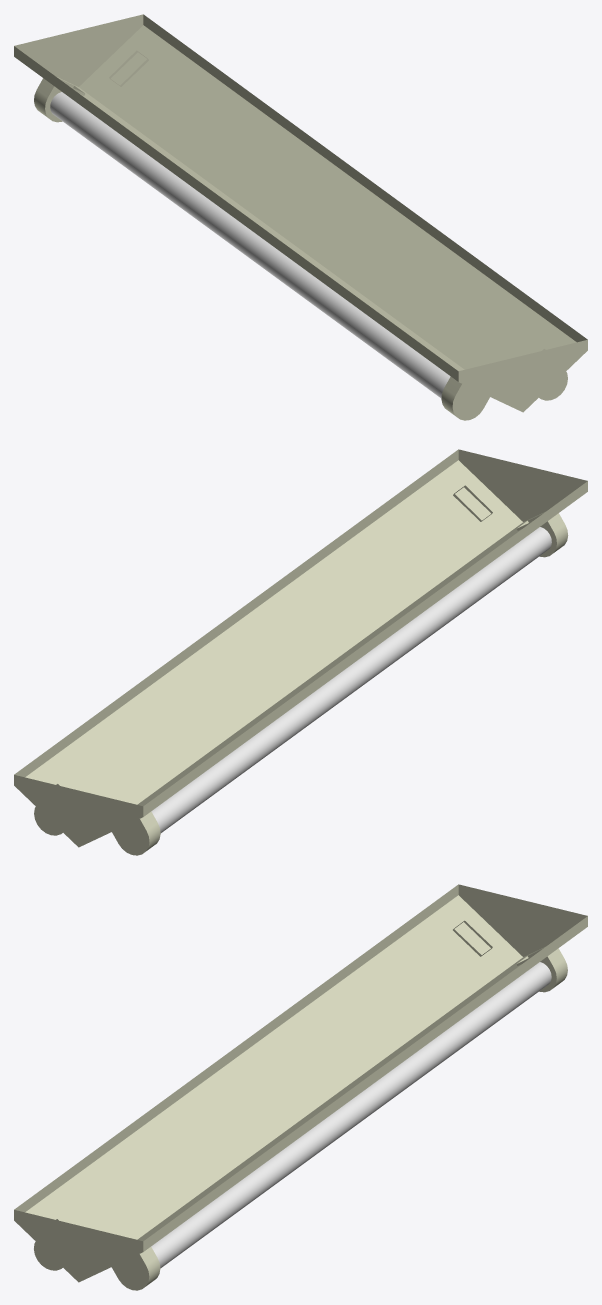
The model's file is keikoutou.fbx.
3 views of the same model, one above another, from view 1: azimuth 30°, elevation 25°; view 2: azimuth 150°, elevation 25°; view 3: azimuth 330°, elevation 25° (orthographic).
Visible parts, largest first — view 1: pCube44, pCylinder43, pCylinder42; view 2: pCube44, pCylinder43, pCylinder42; view 3: pCube44, pCylinder43, pCylinder42.
Boxes of the visible parts, x1,y1,x2,y2 form: pCube44: (14,14,587,412); pCylinder43: (50,92,450,398); pCylinder42: (34,50,567,420); pCube44: (14,449,587,847); pCylinder43: (151,527,551,833); pCylinder42: (34,485,568,855); pCube44: (14,884,587,1282); pCylinder43: (151,962,551,1268); pCylinder42: (34,920,567,1290).
Bounding box in the file's own units: 0.6056 × 0.2868 × 3.6.
